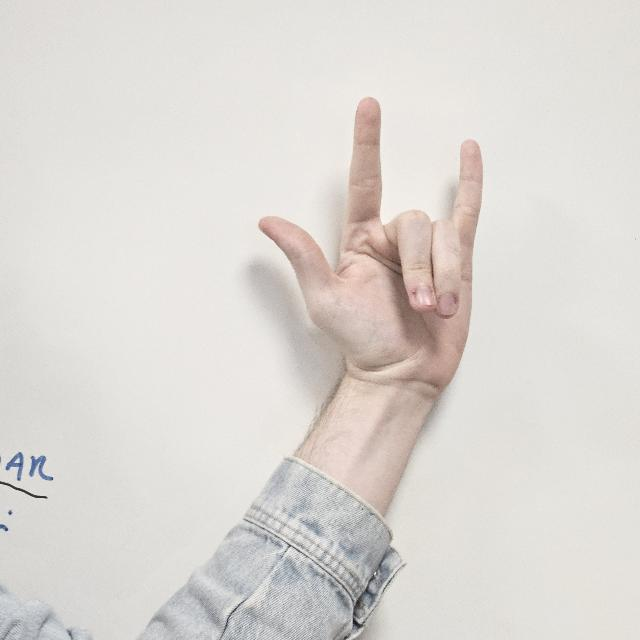Cima: (256, 93, 486, 407)
